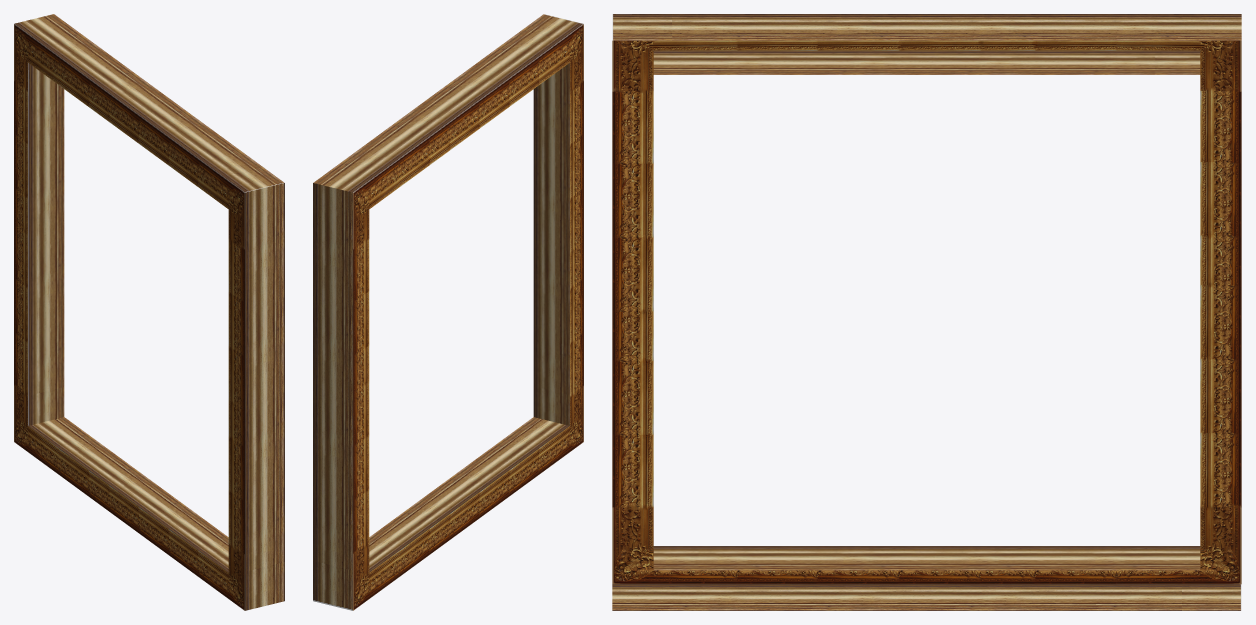
File: frame.obj
The picture shows the model from 3 angles, left to right: view 1: azimuth 30°, elevation 25°; view 2: azimuth 150°, elevation 25°; view 3: azimuth 270°, elevation 25°; orthographic projection. The views are drawn at different scales.
Parts seen in each view (by area): view 1: Box001; view 2: Box001; view 3: Box001.
Boxes of the visible parts, x1,y1,x2,y2 form: Box001: (14, 14, 284, 610); Box001: (313, 14, 583, 610); Box001: (612, 14, 1241, 610).
Bounding box in the file's own units: 5.14 × 50 × 50.
1 material, 1 textured.
